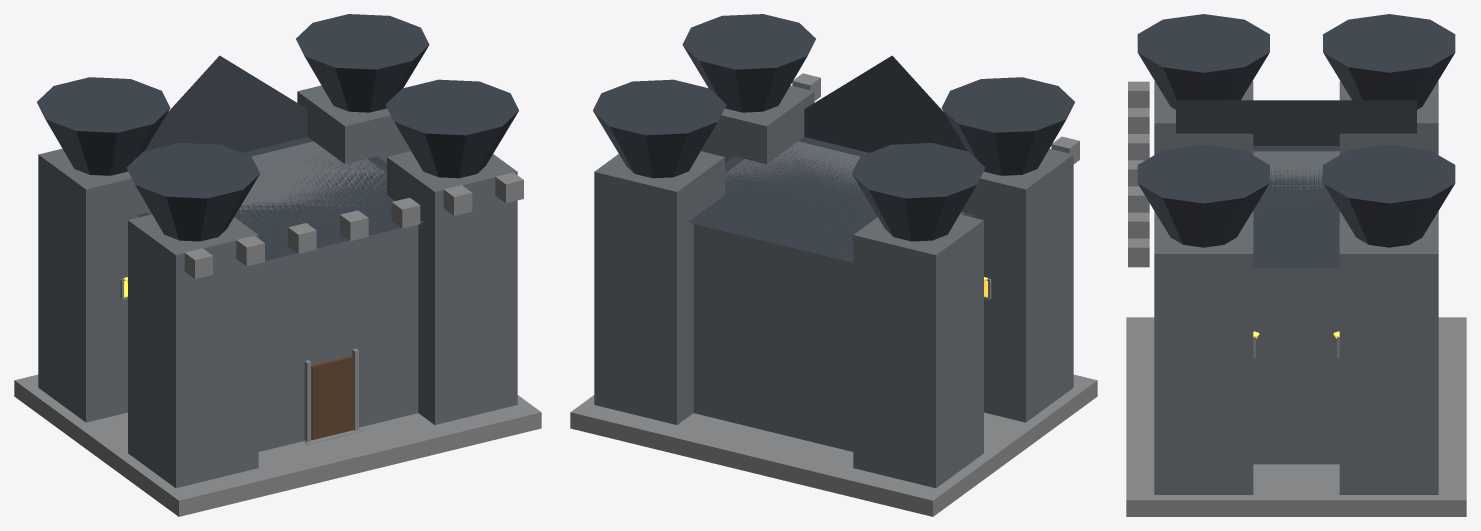
File: keep.glb
3 renders of one model, left to right at view 1: azimuth 30°, elevation 25°; view 2: azimuth 150°, elevation 25°; view 3: azimuth 270°, elevation 25°, orthographic. The views are drawn at different scales.
Visible parts, largest first — view 1: KeepMain, Tower2, Tower3, Tower0, KeepFoundation, KeepRoof, TowerRoof2, TowerRoof3, TowerRoof1, TowerRoof0, Tower1, Door (+8 smaller); view 2: KeepMain, Tower0, Tower1, Tower2, KeepRoof, KeepFoundation, TowerRoof0, TowerRoof1, TowerRoof3, TowerRoof2, Tower3; view 3: Tower1, Tower3, KeepFoundation, KeepMain, KeepRoof, TowerRoof1, TowerRoof3, TowerRoof0, TowerRoof2, Tower0, Tower2, BattlementF6.0 (+5 smaller).
Part boxes in pixels (x1=…): KeepMain: x1=147, y1=141, x2=418, y2=451; Tower2: x1=128, y1=214, x2=258, y2=488; Tower3: x1=387, y1=151, x2=517, y2=424; Tower0: x1=38, y1=148, x2=150, y2=422; KeepFoundation: x1=14, y1=374, x2=541, y2=516; KeepRoof: x1=137, y1=55, x2=423, y2=260; TowerRoof2: x1=126, y1=143, x2=260, y2=241; TowerRoof3: x1=385, y1=79, x2=518, y2=178; TowerRoof1: x1=296, y1=14, x2=429, y2=112; TowerRoof0: x1=37, y1=77, x2=170, y2=175; Tower1: x1=297, y1=85, x2=410, y2=164; Door: x1=311, y1=355, x2=353, y2=440; KeepMain: x1=693, y1=141, x2=964, y2=451; Tower0: x1=853, y1=214, x2=983, y2=488; Tower1: x1=594, y1=151, x2=724, y2=424; Tower2: x1=961, y1=148, x2=1073, y2=422; KeepRoof: x1=688, y1=55, x2=974, y2=262; KeepFoundation: x1=570, y1=374, x2=1097, y2=516; TowerRoof0: x1=851, y1=143, x2=985, y2=241; TowerRoof1: x1=593, y1=79, x2=726, y2=178; TowerRoof3: x1=682, y1=14, x2=815, y2=112; TowerRoof2: x1=941, y1=77, x2=1074, y2=175; Tower3: x1=701, y1=85, x2=814, y2=164; Tower1: x1=1339, y1=212, x2=1438, y2=494; Tower3: x1=1154, y1=212, x2=1253, y2=494; KeepFoundation: x1=1126, y1=317, x2=1466, y2=516; KeepMain: x1=1253, y1=151, x2=1339, y2=464; KeepRoof: x1=1176, y1=100, x2=1416, y2=267; TowerRoof1: x1=1323, y1=144, x2=1455, y2=247; TowerRoof3: x1=1137, y1=144, x2=1269, y2=247; TowerRoof0: x1=1323, y1=14, x2=1455, y2=109; TowerRoof2: x1=1137, y1=14, x2=1269, y2=109; Tower0: x1=1339, y1=81, x2=1438, y2=211; Tower2: x1=1154, y1=81, x2=1253, y2=211; BattlementF6.0: x1=1128, y1=238, x2=1149, y2=267.
Bounding box in the file's own units: 14.5 × 11.6 × 11.
